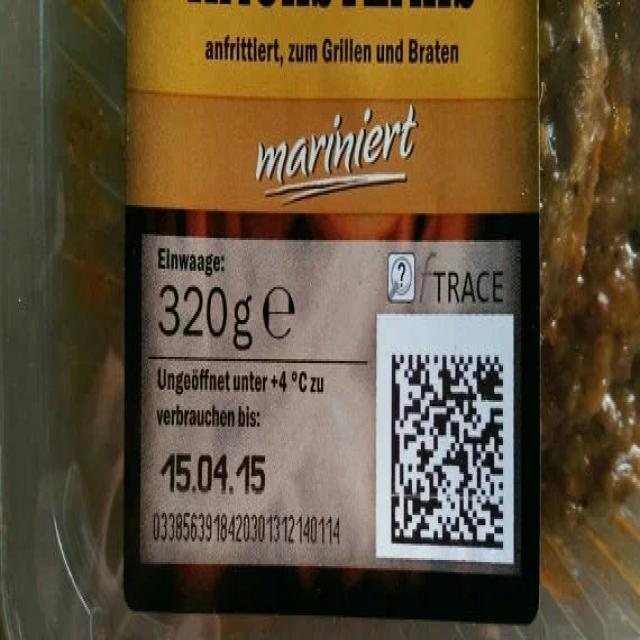datamatrix: (391, 351, 506, 553)
